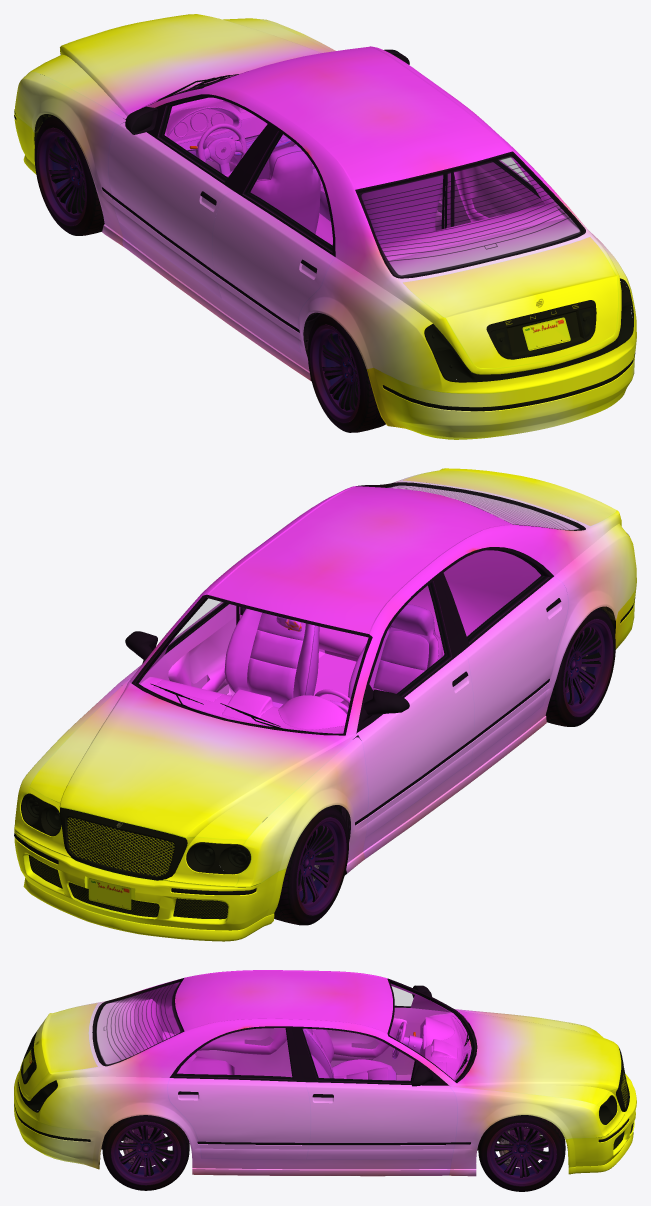
The model's file is cog55.glb.
3 renders of one model, top to bottom at view 1: azimuth 30°, elevation 25°; view 2: azimuth 150°, elevation 25°; view 3: azimuth 270°, elevation 25°, orthographic. The views are drawn at different scales.
Parts seen in each view (by area): view 1: bodyshell, chassis, boot, windscreen_r, bonnet, door_dside_f, door_dside_r, bumper_r, wing_lf, wheel_lr, wheel_lf, window_lf (+4 smaller); view 2: bodyshell, chassis, bonnet, door_dside_f, bumper_f, door_dside_r, wing_lf, wheel_lf, door_pside_f, wheel_lr, window_lr, window_lf (+4 smaller); view 3: bodyshell, door_pside_f, chassis, door_pside_r, bonnet, wing_rf, wheel_rf, wheel_rr, windscreen_r, window_rf, window_rr, boot (+4 smaller).
Boxes of the visible parts, x1=… form: bodyshell: x1=60, y1=46, x2=636, y2=393; chassis: x1=42, y1=74, x2=632, y2=380; boot: x1=403, y1=237, x2=618, y2=368; windscreen_r: x1=358, y1=154, x2=582, y2=276; bonnet: x1=30, y1=14, x2=330, y2=119; door_dside_f: x1=108, y1=95, x2=275, y2=298; door_dside_r: x1=212, y1=126, x2=334, y2=352; bumper_r: x1=367, y1=333, x2=636, y2=439; wing_lf: x1=14, y1=71, x2=125, y2=247; wheel_lr: x1=307, y1=314, x2=385, y2=432; wheel_lf: x1=34, y1=115, x2=104, y2=235; window_lf: x1=160, y1=97, x2=266, y2=180; bodyshell: x1=19, y1=468, x2=636, y2=886; chassis: x1=21, y1=485, x2=615, y2=876; bonnet: x1=30, y1=678, x2=357, y2=839; door_dside_f: x1=356, y1=574, x2=474, y2=837; bumper_f: x1=14, y1=830, x2=286, y2=941; door_dside_r: x1=439, y1=547, x2=568, y2=761; wing_lf: x1=234, y1=737, x2=368, y2=886; wheel_lf: x1=274, y1=806, x2=348, y2=925; door_pside_f: x1=120, y1=602, x2=236, y2=695; wheel_lr: x1=545, y1=607, x2=615, y2=726; window_lr: x1=444, y1=550, x2=547, y2=640; window_lf: x1=370, y1=583, x2=449, y2=694; bodyshell: x1=14, y1=970, x2=629, y2=1176; door_pside_f: x1=292, y1=1027, x2=457, y2=1159; chassis: x1=30, y1=980, x2=627, y2=1150; door_pside_r: x1=167, y1=1026, x2=310, y2=1159; bonnet: x1=449, y1=1009, x2=621, y2=1104; wing_rf: x1=449, y1=1087, x2=610, y2=1176; wheel_rf: x1=478, y1=1115, x2=565, y2=1191; wheel_rr: x1=102, y1=1115, x2=189, y2=1190; windscreen_r: x1=95, y1=980, x2=182, y2=1065; window_rf: x1=302, y1=1029, x2=414, y2=1082; window_rr: x1=176, y1=1028, x2=292, y2=1078; boot: x1=19, y1=1003, x2=97, y2=1096.
Size of the model in its own units: 2.01 by 1.57 by 5.57.
Materials: 20 (12 with a texture image).
